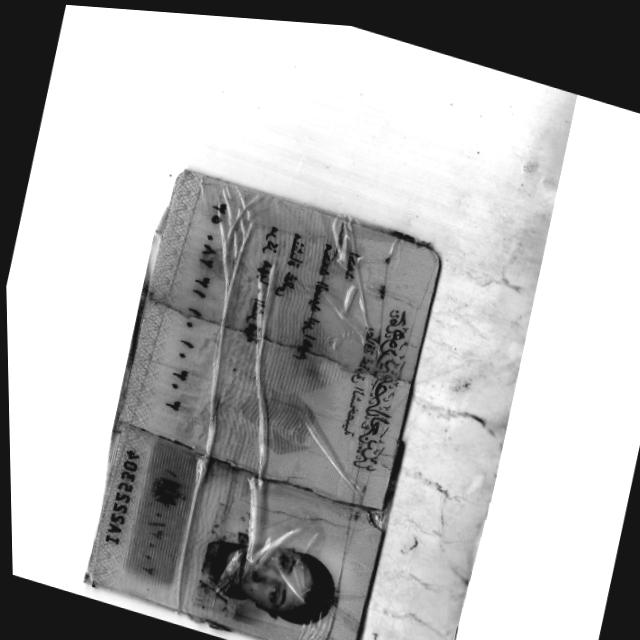front: (80, 158, 448, 640)
